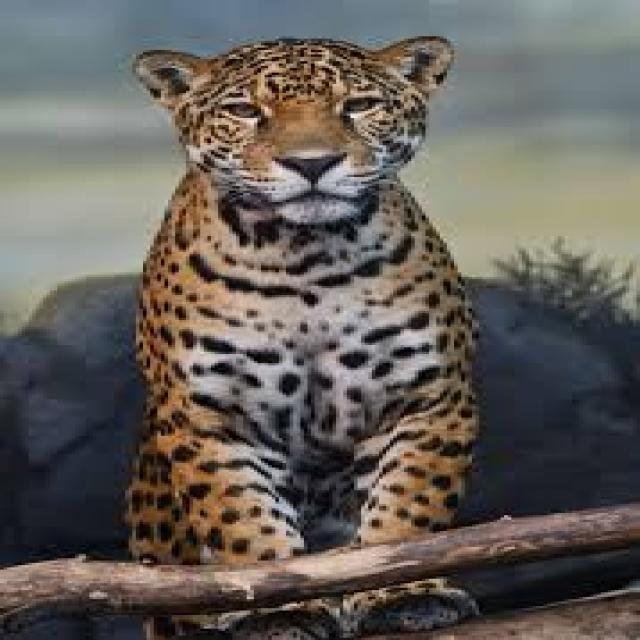Jaguar: (86, 7, 547, 640)
